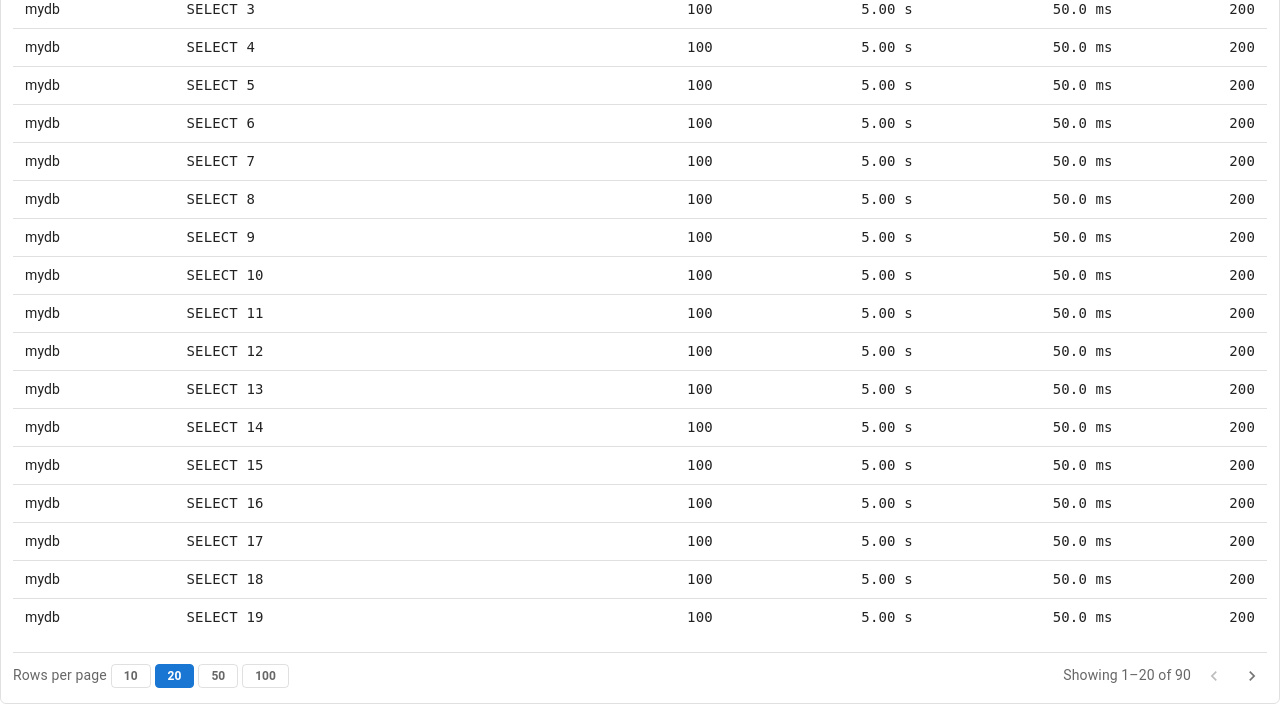
TopQueriesSection › resets to the first page when the database filter changes
(page scrolled)
Click the button named "Next page of queries".
click(1252, 676)  # box [1237,661,1267,691]
(page scrolled)
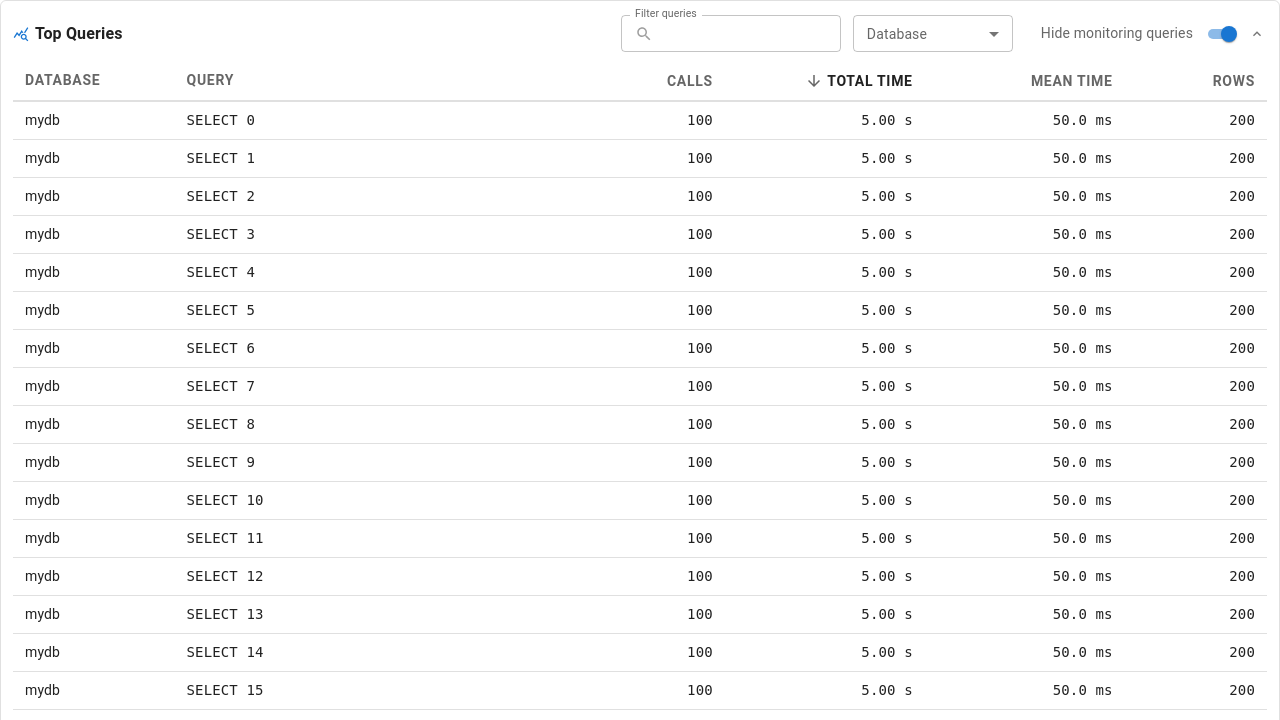
Press the mouse on the dropdown at (933, 34), box [853,15,1013,52]
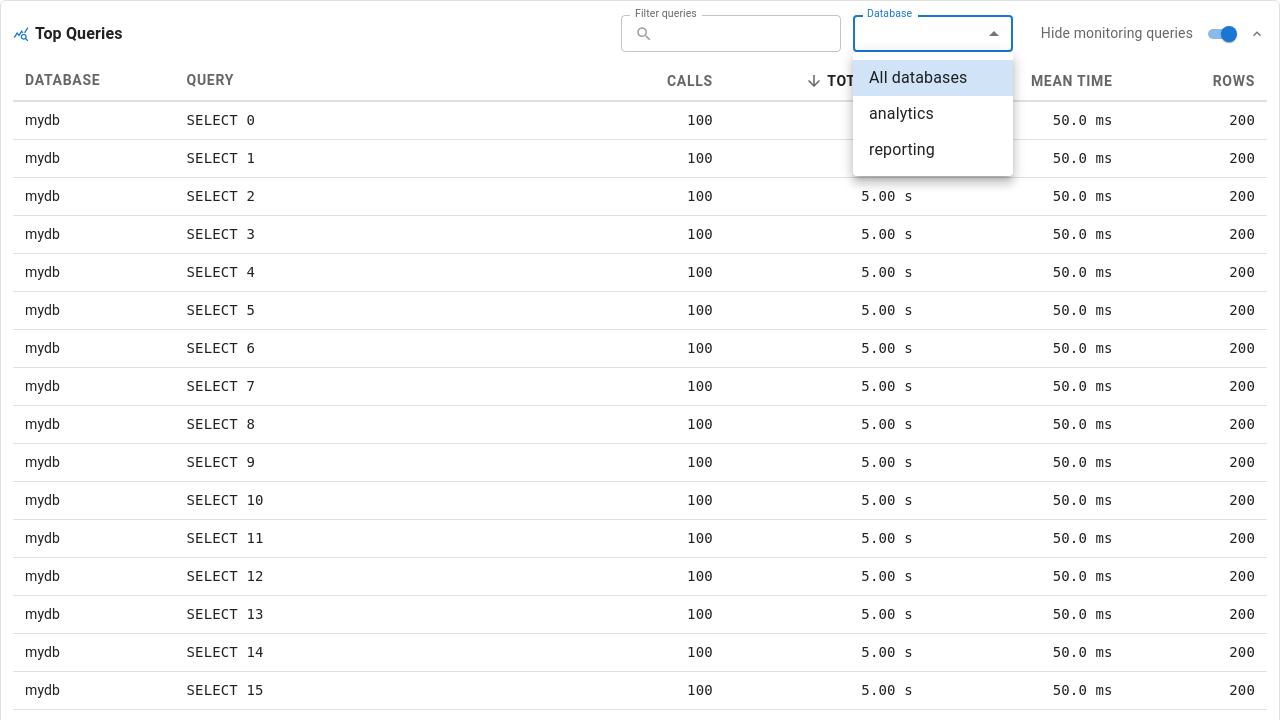
Click the option "reporting".
click(902, 150)  # box [869,140,935,159]
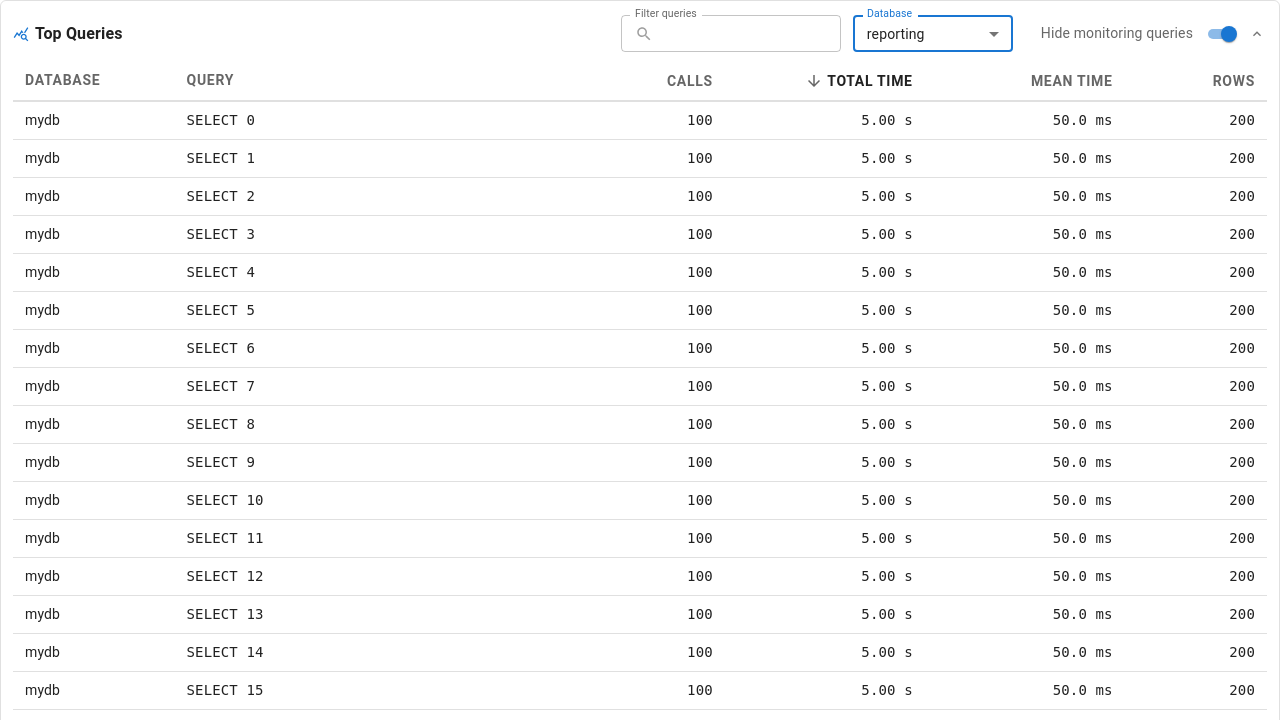
Expected: the dropdown reads "reporting", [867,26,925,42]
